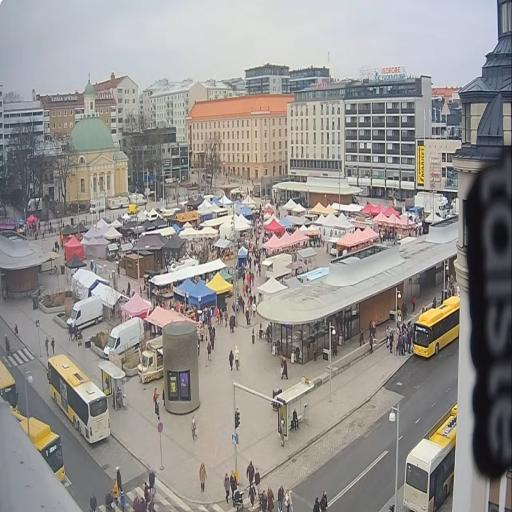Bus: (404, 403, 457, 511), (47, 355, 110, 443), (13, 413, 65, 482), (414, 296, 459, 357), (0, 361, 17, 411)
Delivery: (104, 317, 144, 359), (67, 297, 103, 333), (138, 337, 163, 383)
